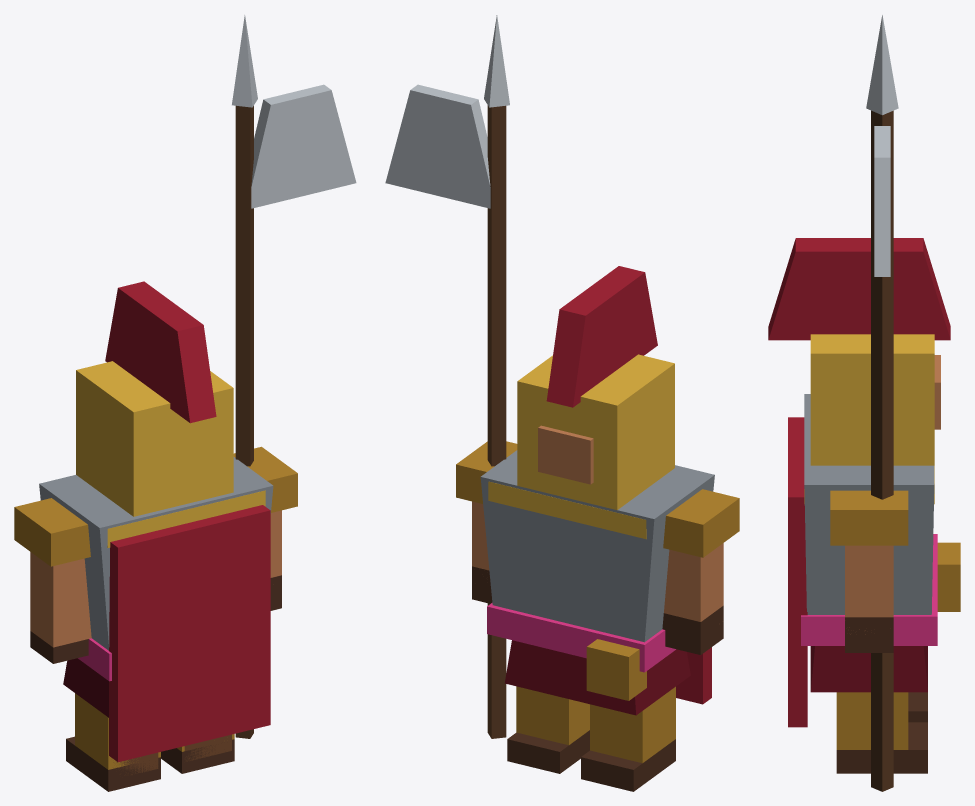
Rendered from EN_GildedMercenary.fbx.
The picture shows the model from 3 angles, left to right: view 1: azimuth 30°, elevation 25°; view 2: azimuth 150°, elevation 25°; view 3: azimuth 270°, elevation 25°; orthographic projection. The views are drawn at different scales.
Visible parts, largest first — view 1: Cloak, Head, Crest, Axe, Body, Halberd, ArmL, PauldronL, Trim, BootL, GreaveL, PauldronR (+7 smaller); view 2: Body, Head, Crest, Axe, Halberd, Skirt, Belt, GreaveL, PauldronL, ArmL, GreaveR, Trim (+10 smaller); view 3: Head, Crest, Body, Halberd, Cloak, Skirt, PauldronR, ArmR, Belt, GreaveR, Axe, BootR (+5 smaller).
Boxes of the visible parts, x1,y1,x2,y2 form: Cloak: (109, 505, 270, 762); Head: (76, 361, 233, 516); Crest: (105, 281, 216, 423); Axe: (251, 84, 356, 208); Body: (39, 457, 273, 650); Halberd: (235, 105, 253, 738); ArmL: (30, 552, 91, 647); PauldronL: (14, 498, 90, 566); Trim: (107, 490, 265, 547); BootL: (66, 736, 160, 791); GreaveL: (75, 693, 160, 769); PauldronR: (233, 446, 297, 512); Body: (480, 450, 714, 642); Head: (517, 354, 674, 509); Crest: (546, 266, 657, 407); Axe: (385, 84, 490, 208); Halberd: (487, 105, 506, 738); Skirt: (504, 640, 690, 715); Belt: (487, 603, 675, 672); GreaveL: (590, 686, 675, 763); PauldronL: (663, 489, 739, 557); ArmL: (664, 543, 723, 621); GreaveR: (516, 686, 589, 745); Trim: (488, 481, 646, 539); Head: (810, 334, 934, 465); Crest: (768, 238, 950, 340); Body: (804, 394, 934, 614); Halberd: (871, 110, 893, 791); Cloak: (788, 417, 807, 727); Skirt: (810, 646, 927, 692); PauldronR: (830, 490, 908, 545); ArmR: (845, 545, 893, 634); Belt: (801, 534, 937, 645); GreaveR: (836, 692, 908, 749); Axe: (874, 126, 890, 276); BootR: (836, 722, 927, 773).
Bounding box in the file's own units: 1.24 × 0.59 × 2.63.
